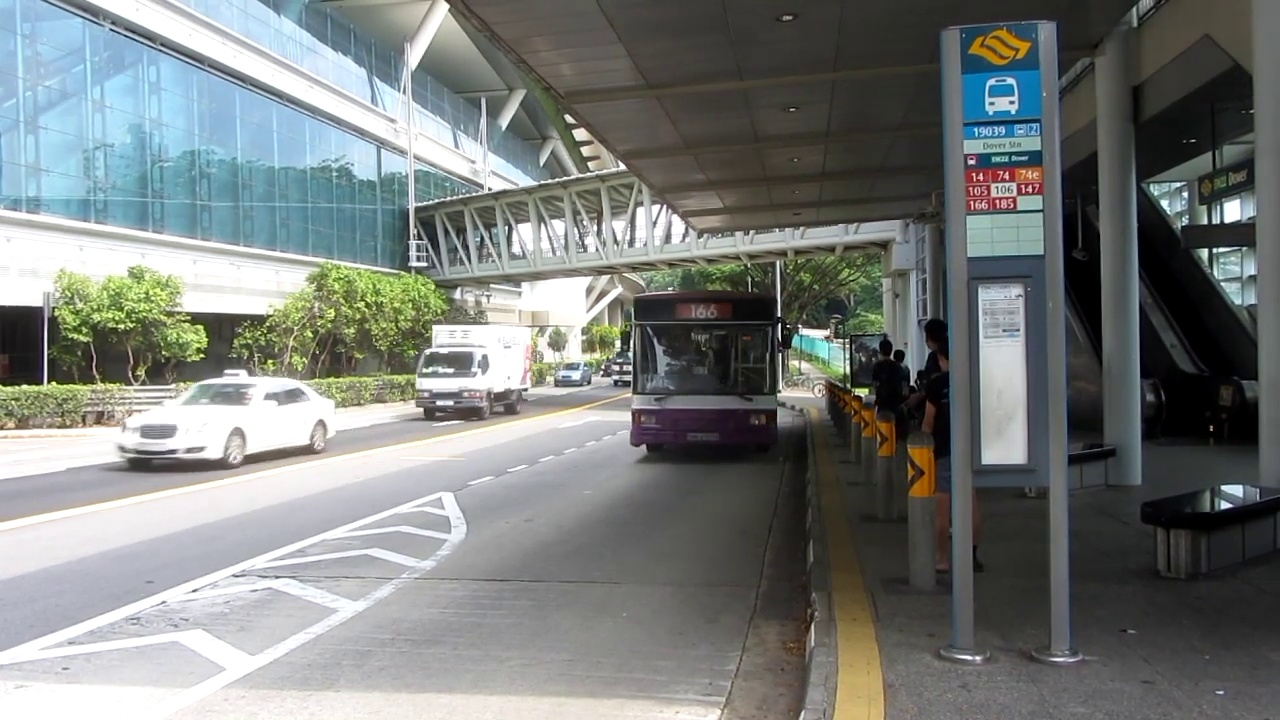bus panel: (673, 300, 734, 322)
